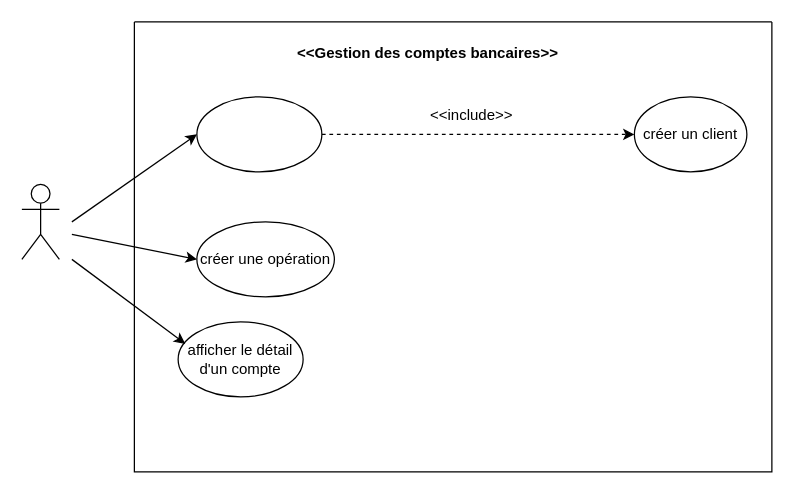
The diagram is 794 pixels wide and 494 high, and some of its shapes have lost their labels. Each missing label, with the centre of its shape:
créer un compte: the point at 259,134
User: the point at 40,221
